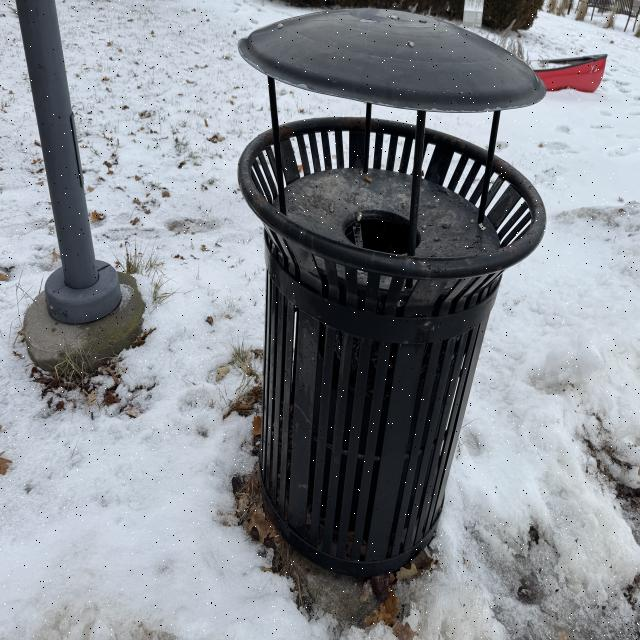Dustbin: (238, 8, 548, 574)
